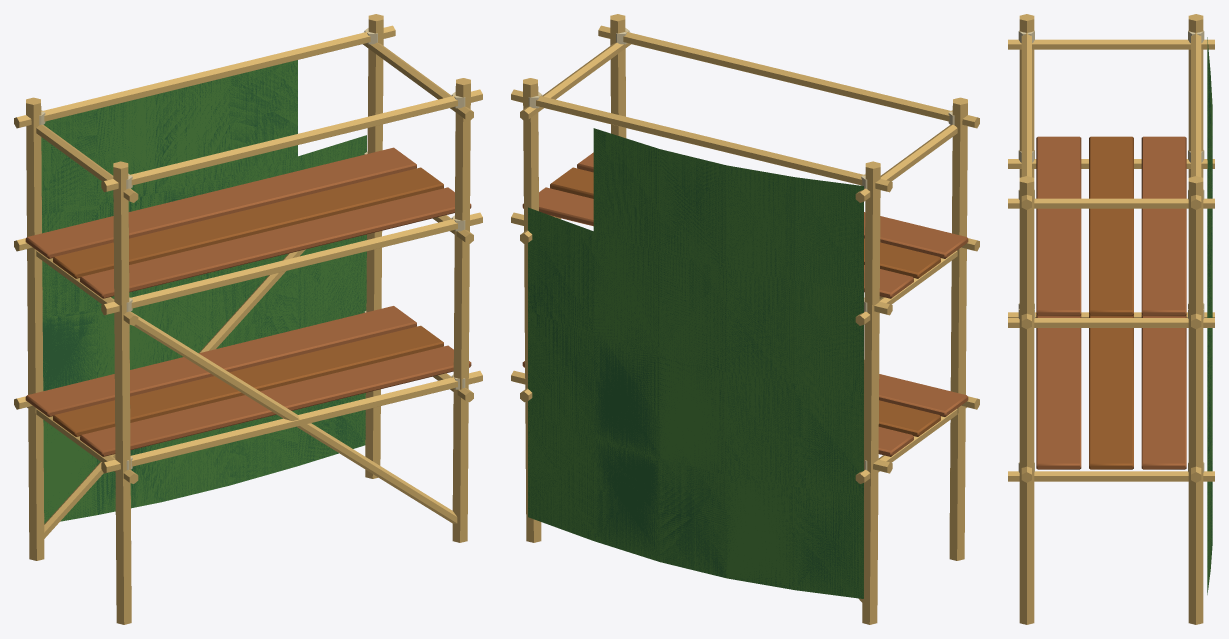
File: growth_scaffold.glb
The picture shows the model from 3 angles, left to right: view 1: azimuth 30°, elevation 25°; view 2: azimuth 150°, elevation 25°; view 3: azimuth 270°, elevation 25°; orthographic projection. The views are drawn at different scales.
Parts seen in each view (by area): view 1: growth_scaffold; view 2: growth_scaffold; view 3: growth_scaffold.
Boxes of the visible parts, box(x1,y1,x2,y2) form: growth_scaffold: box(14, 14, 482, 624); growth_scaffold: box(511, 14, 979, 624); growth_scaffold: box(1008, 14, 1214, 624).
Bounding box in the file's own units: 2.24 × 2.6 × 1.1.
1 material, 1 textured.
